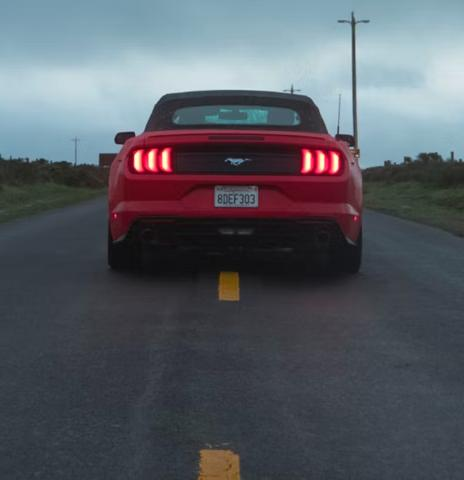car: (77, 68, 382, 294)
